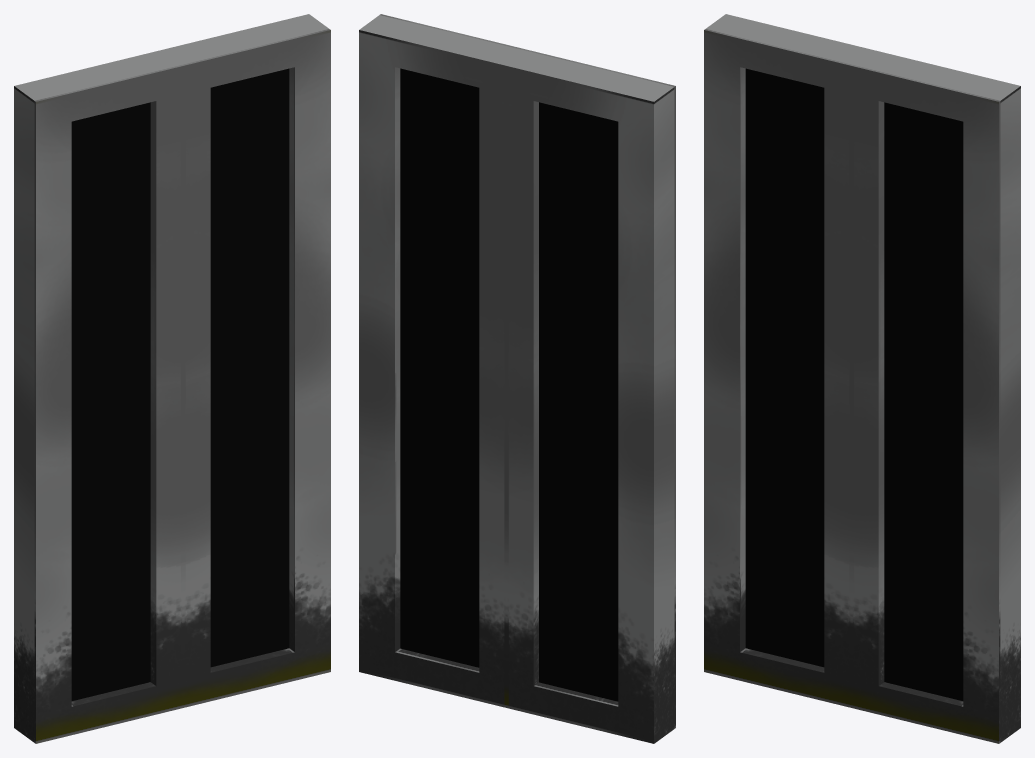
The model's file is Doors_Sliding.fbx.
3 renders of one model, left to right at view 1: azimuth 30°, elevation 25°; view 2: azimuth 150°, elevation 25°; view 3: azimuth 330°, elevation 25°, orthographic.
Visible parts, largest first — view 1: RightDoor.002, RightDoor, RightDoor.003, RightDoor.001; view 2: RightDoor.002, RightDoor, RightDoor.001, RightDoor.003; view 3: RightDoor, RightDoor.002, RightDoor.001, RightDoor.003.
Part boxes in pixels (left/top/right/bottom): RightDoor.002: left=14, top=50, right=183, bottom=743; RightDoor: left=162, top=14, right=330, bottom=707; RightDoor.003: left=71, top=102, right=150, bottom=700; RightDoor.001: left=210, top=68, right=289, bottom=667; RightDoor.002: left=506, top=50, right=675, bottom=743; RightDoor: left=359, top=14, right=527, bottom=707; RightDoor.001: left=400, top=68, right=479, bottom=667; RightDoor.003: left=539, top=102, right=618, bottom=701; RightDoor: left=851, top=50, right=1020, bottom=743; RightDoor.002: left=704, top=14, right=872, bottom=707; RightDoor.001: left=884, top=102, right=963, bottom=700; RightDoor.003: left=745, top=68, right=824, bottom=667.
Size of the model in its own units: 101 by 209 by 12.85.
